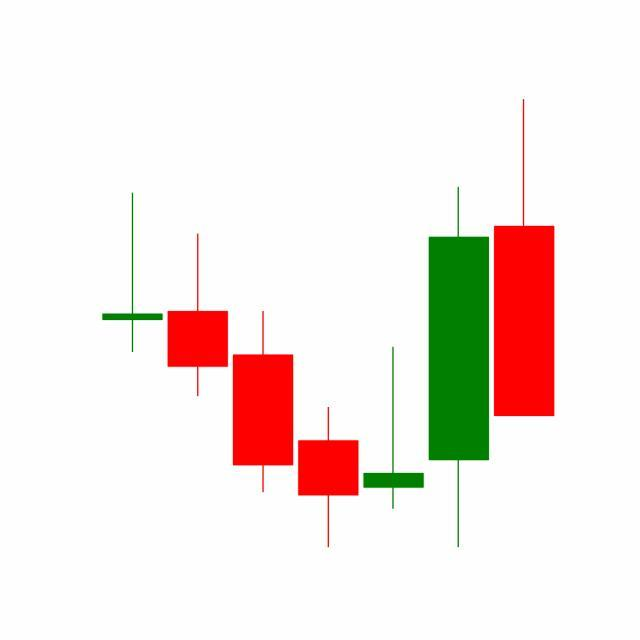Three Inside Up-Down: (295, 183, 492, 548)
